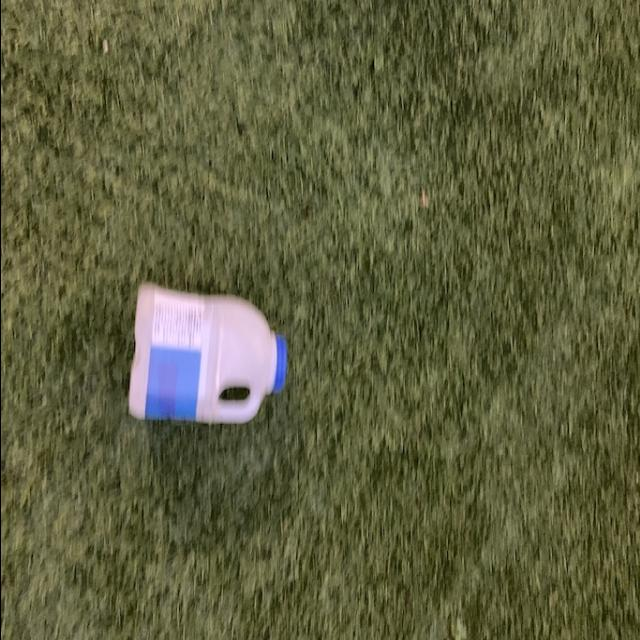HDPEM: (118, 283, 290, 432)
